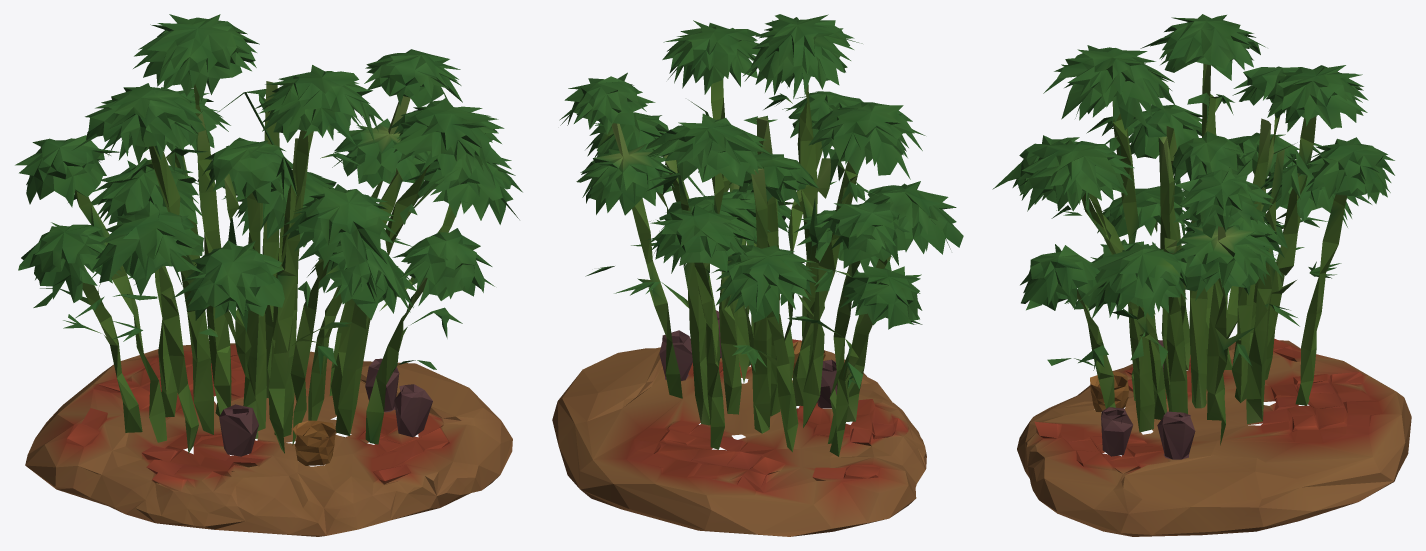
File: bui-tre-xa.2d87ddae.glb
3 views of the same model, side by side, from view 1: azimuth 30°, elevation 25°; view 2: azimuth 150°, elevation 25°; view 3: azimuth 270°, elevation 25° (orthographic). The views are drawn at different scales.
Parts seen in each view (by area): view 1: tripo_part_1, tripo_part_5, tripo_part_4, tripo_part_7, tripo_part_3, tripo_part_2, tripo_part_0, tripo_part_8, tripo_part_12, tripo_part_9, tripo_part_11, tripo_part_20 (+19 smaller); view 2: tripo_part_1, tripo_part_5, tripo_part_2, tripo_part_7, tripo_part_4, tripo_part_8, tripo_part_0, tripo_part_3, tripo_part_10, tripo_part_23, tripo_part_21, tripo_part_27 (+18 smaller); view 3: tripo_part_1, tripo_part_2, tripo_part_4, tripo_part_8, tripo_part_0, tripo_part_7, tripo_part_12, tripo_part_21, tripo_part_10, tripo_part_5, tripo_part_3, tripo_part_15 (+20 smaller).
Boxes of the visible parts, x1=… form: tripo_part_1: x1=25, y1=343, x2=512, y2=536; tripo_part_5: x1=15, y1=135, x2=166, y2=442; tripo_part_4: x1=229, y1=65, x2=385, y2=453; tripo_part_7: x1=72, y1=83, x2=213, y2=434; tripo_part_3: x1=91, y1=200, x2=203, y2=453; tripo_part_2: x1=329, y1=96, x2=522, y2=395; tripo_part_0: x1=385, y1=98, x2=511, y2=254; tripo_part_8: x1=133, y1=14, x2=259, y2=212; tripo_part_12: x1=365, y1=228, x2=494, y2=444; tripo_part_9: x1=290, y1=243, x2=416, y2=445; tripo_part_11: x1=172, y1=217, x2=284, y2=331; tripo_part_20: x1=281, y1=184, x2=397, y2=269; tripo_part_1: x1=552, y1=339, x2=926, y2=536; tripo_part_5: x1=807, y1=202, x2=922, y2=443; tripo_part_2: x1=576, y1=112, x2=682, y2=398; tripo_part_7: x1=803, y1=102, x2=925, y2=427; tripo_part_4: x1=742, y1=14, x2=862, y2=368; tripo_part_8: x1=645, y1=113, x2=775, y2=320; tripo_part_0: x1=662, y1=20, x2=777, y2=193; tripo_part_3: x1=846, y1=181, x2=963, y2=421; tripo_part_10: x1=647, y1=205, x2=754, y2=271; tripo_part_23: x1=712, y1=245, x2=816, y2=314; tripo_part_21: x1=559, y1=72, x2=655, y2=134; tripo_part_27: x1=751, y1=168, x2=771, y2=433; tripo_part_1: x1=1017, y1=338, x2=1411, y2=536; tripo_part_2: x1=1078, y1=225, x2=1277, y2=445; tripo_part_4: x1=1043, y1=45, x2=1174, y2=400; tripo_part_8: x1=1266, y1=65, x2=1368, y2=275; tripo_part_0: x1=1017, y1=140, x2=1134, y2=254; tripo_part_7: x1=1140, y1=14, x2=1265, y2=362; tripo_part_12: x1=1020, y1=244, x2=1115, y2=408; tripo_part_21: x1=1172, y1=169, x2=1273, y2=237; tripo_part_10: x1=1298, y1=137, x2=1394, y2=203; tripo_part_5: x1=1224, y1=66, x2=1321, y2=369; tripo_part_3: x1=1110, y1=104, x2=1202, y2=370; tripo_part_15: x1=1295, y1=194, x2=1347, y2=405.
Bounding box in the file's own units: 0.9605 × 0.9021 × 0.8723.
